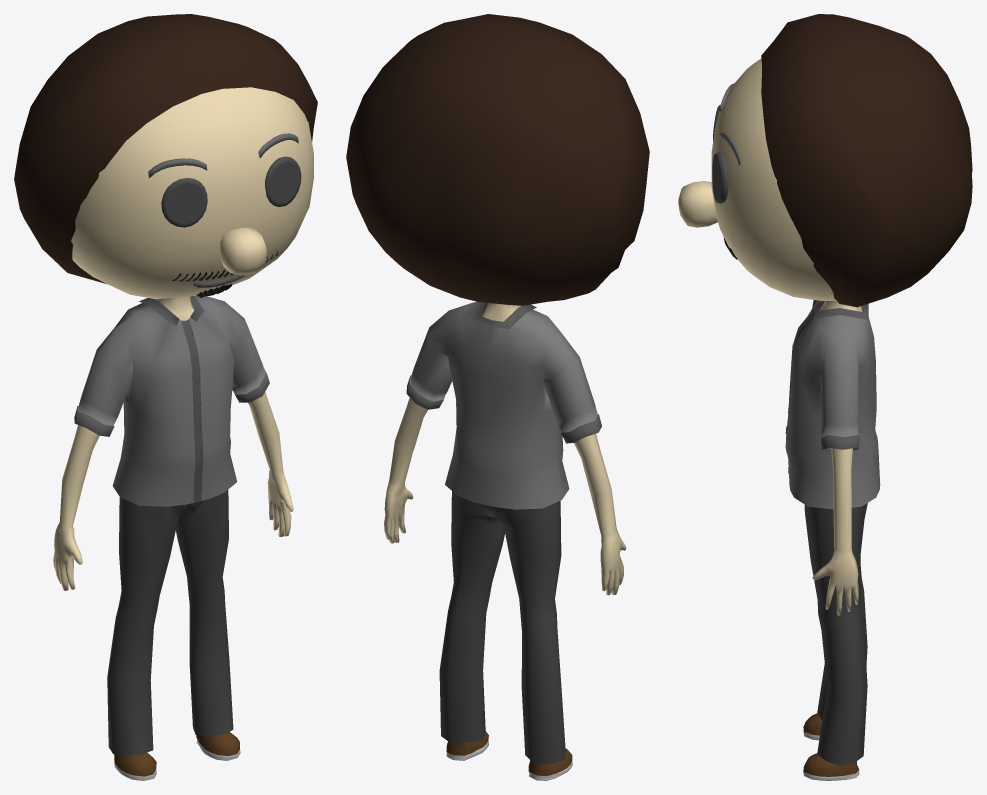
Rendered from dadfinal.fbx.
3 renders of one model, left to right at view 1: azimuth 30°, elevation 25°; view 2: azimuth 150°, elevation 25°; view 3: azimuth 270°, elevation 25°, orthographic.
Parts seen in each view (by area): view 1: sapatos.001; view 2: sapatos.001; view 3: sapatos.001.
Boxes of the visible parts, x1=… form: sapatos.001: x1=14, y1=14, x2=317, y2=780; sapatos.001: x1=346, y1=14, x2=649, y2=780; sapatos.001: x1=678, y1=14, x2=972, y2=780.
Bounding box in the file's own units: 327 × 838 × 309.
